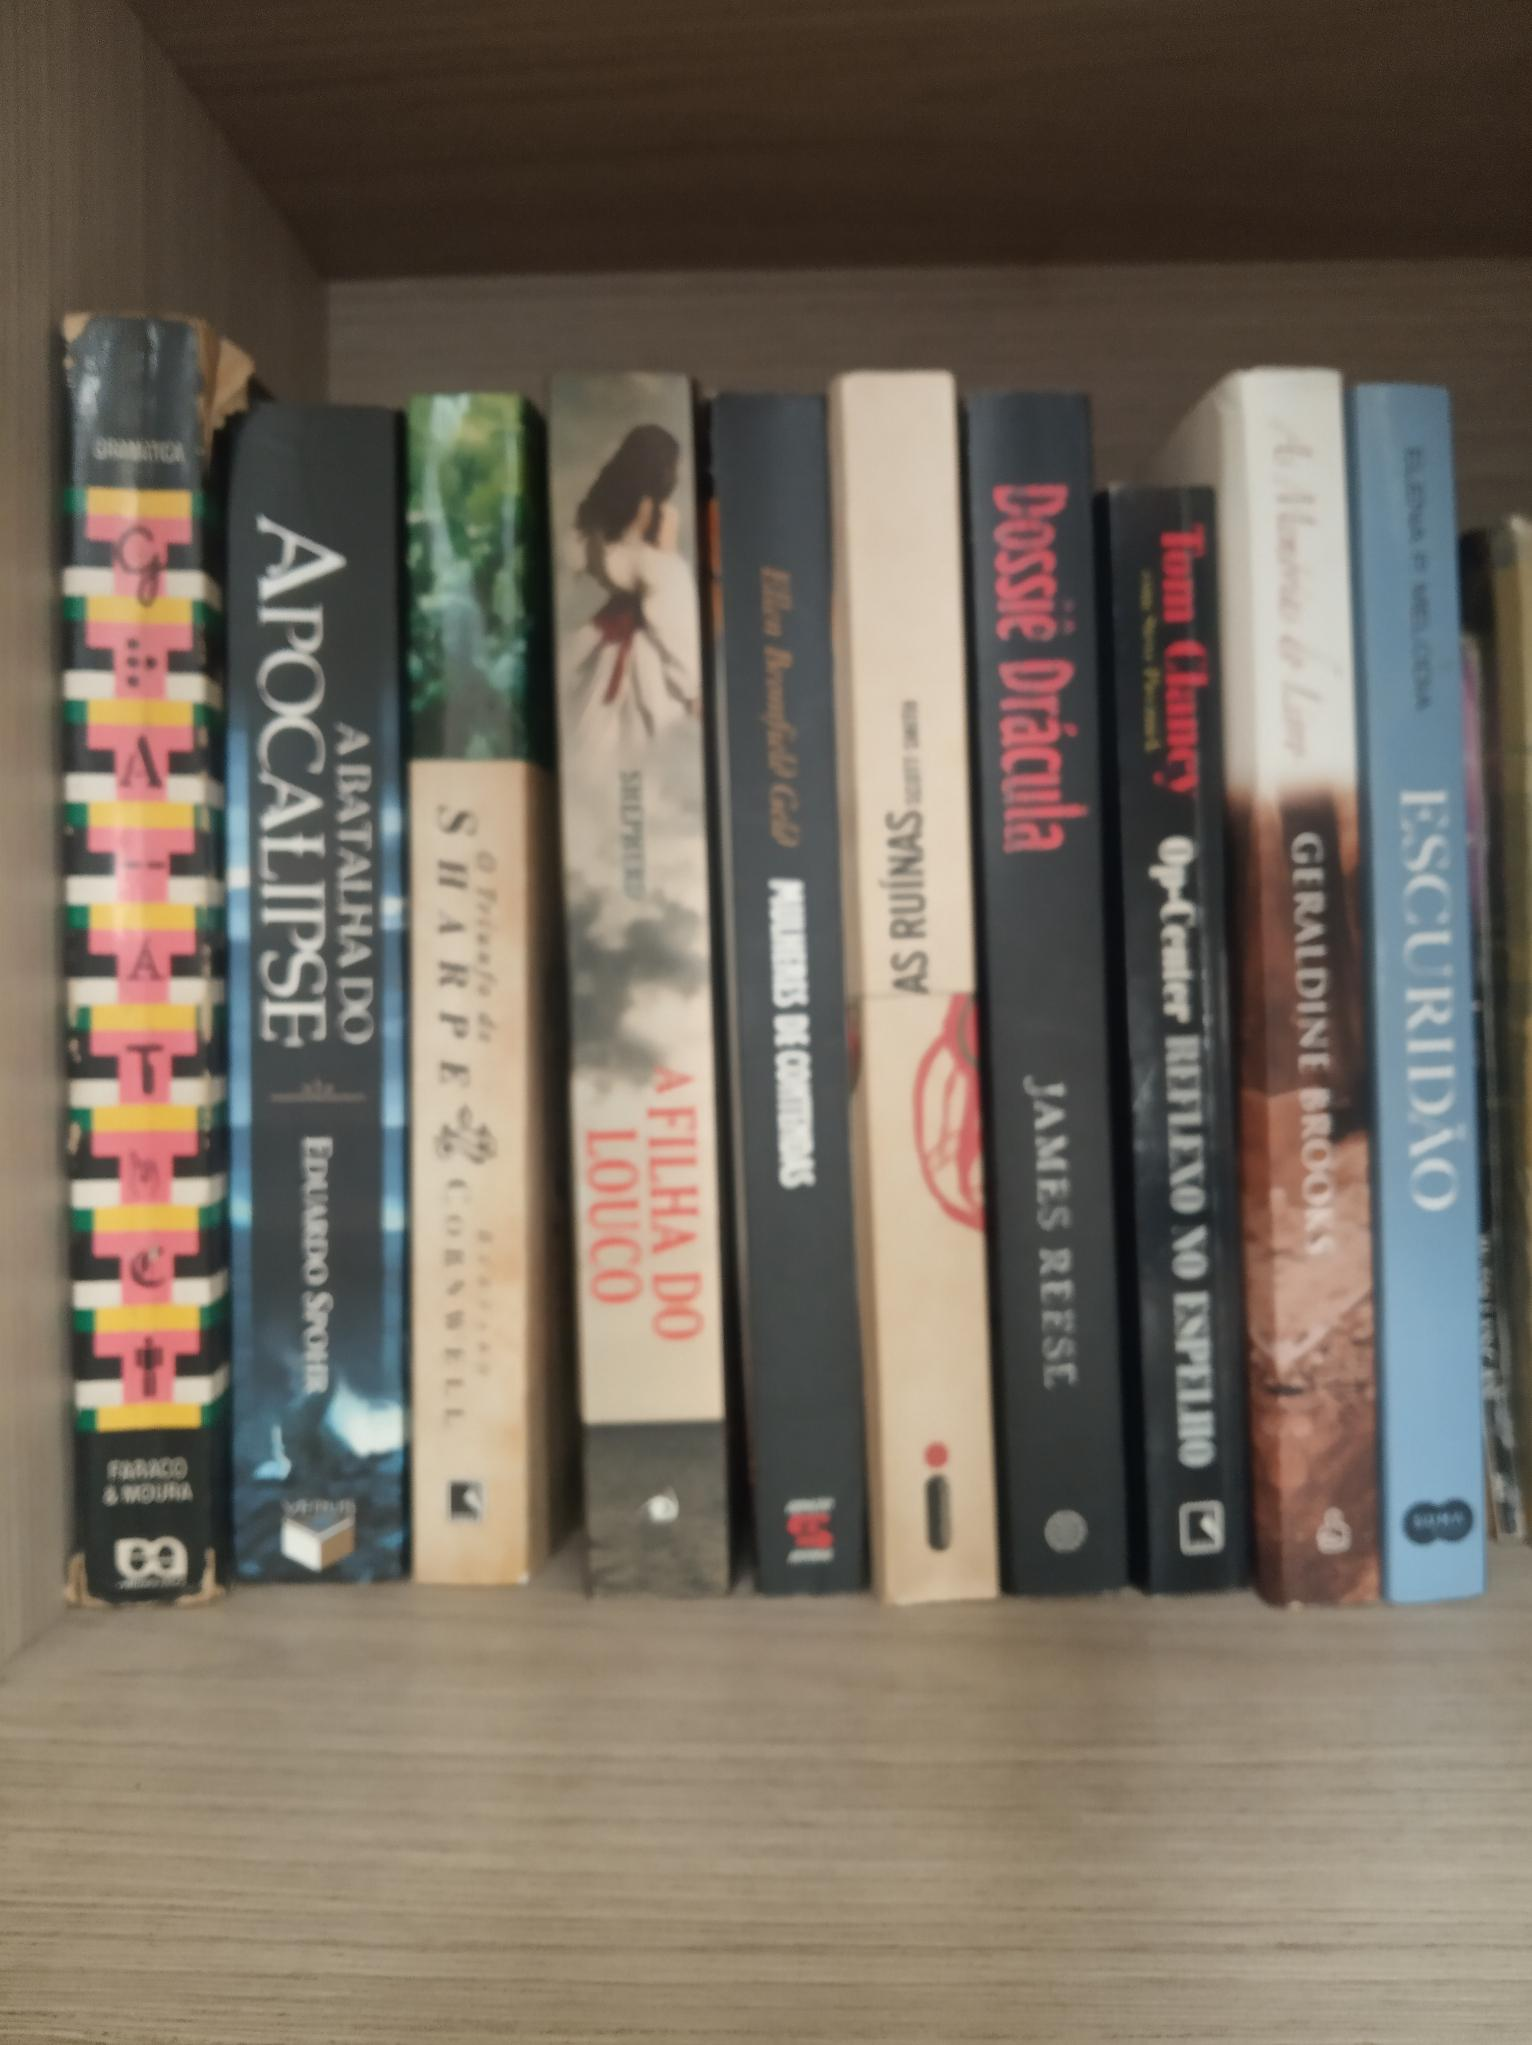book: (233, 422, 381, 1561), (68, 328, 195, 1588), (583, 385, 690, 1582), (414, 404, 512, 1580), (863, 368, 953, 1603), (752, 404, 830, 1594), (1403, 367, 1476, 1601)
